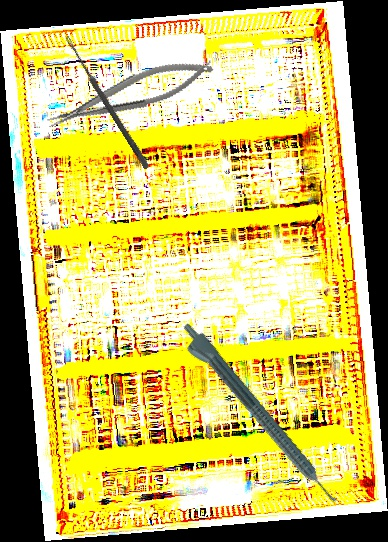Handpiece: (171, 318, 342, 514)
Needle Holder: (41, 50, 219, 136)
Surgical Spoon: (63, 35, 151, 170)
